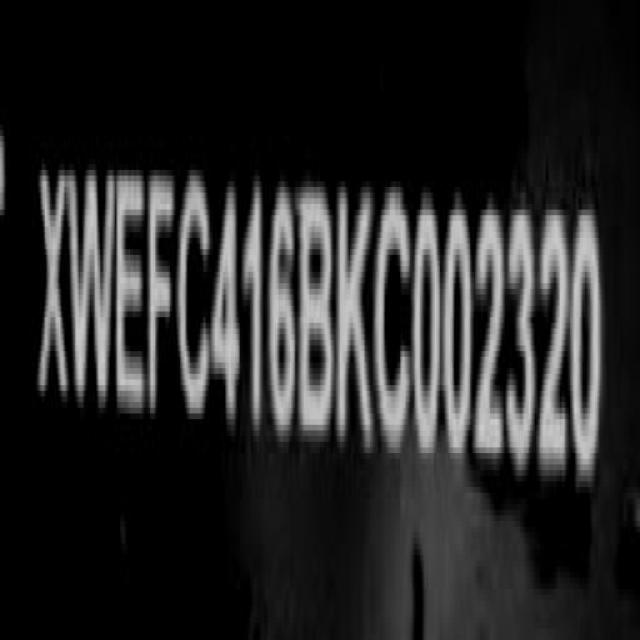0: (442, 196, 475, 467), (571, 215, 604, 479), (412, 192, 444, 464)
1: (245, 178, 268, 442)
2: (540, 212, 572, 480), (475, 204, 506, 471)
3: (507, 205, 538, 479)
4: (212, 176, 244, 438)
6: (267, 176, 300, 444)
B: (300, 174, 336, 446)
C: (376, 184, 415, 463), (178, 167, 215, 430)
E: (115, 166, 148, 426)
F: (145, 162, 179, 428)
K: (336, 185, 376, 457)
W: (68, 158, 117, 422)
X: (38, 155, 71, 418)
